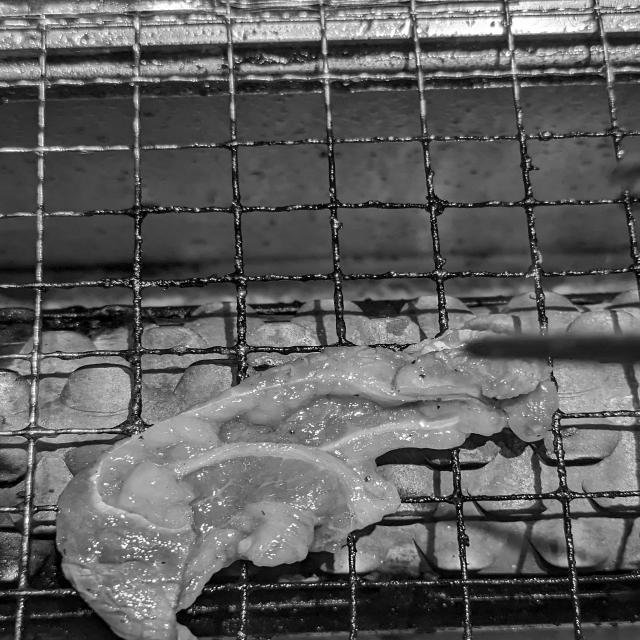OK undercooked beef,: (21, 325, 568, 640)
